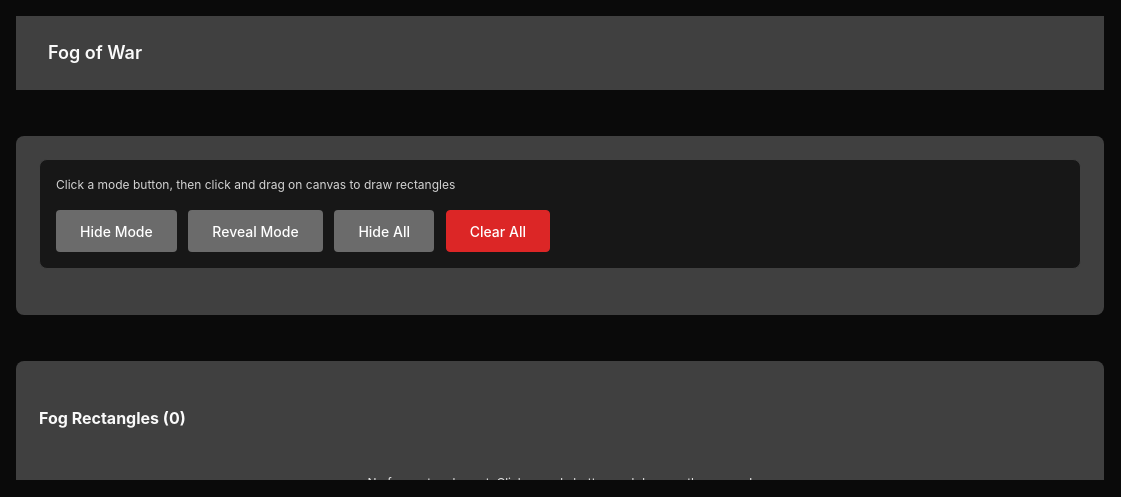
it: FogPanel — mode toggle › clicking Reveal Mode shows Reveal Mode Active banner
Click the button titled "draw fog reveal rectangles" at (256, 231), box [188,210,323,252]
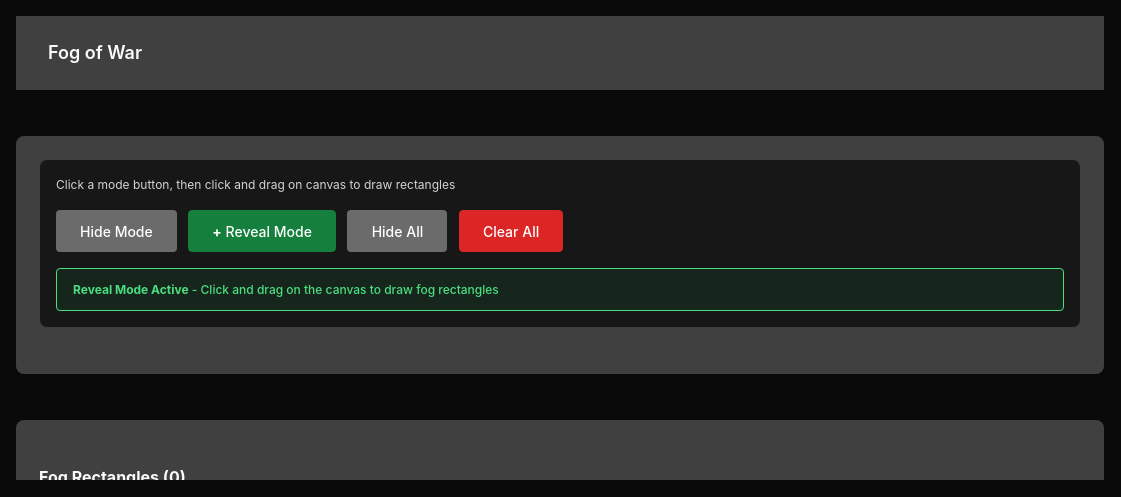
Check: the text "Reveal Mode Active" is shown, box [73,282,189,297]
